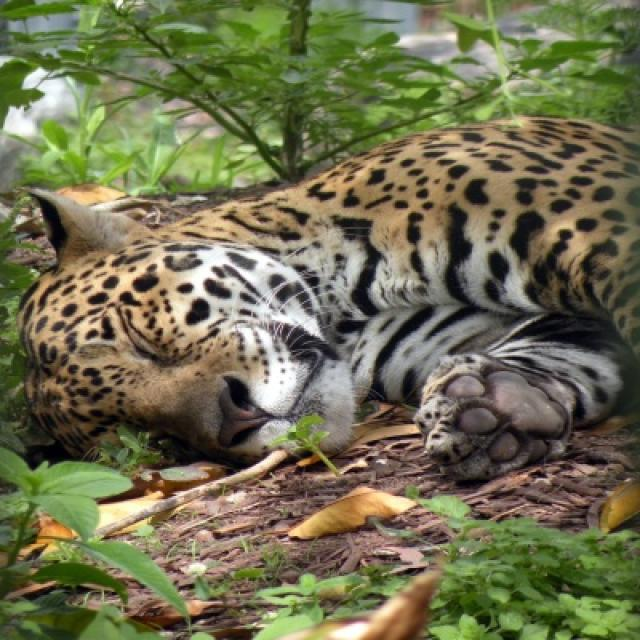Jaguar: (22, 117, 638, 482)
